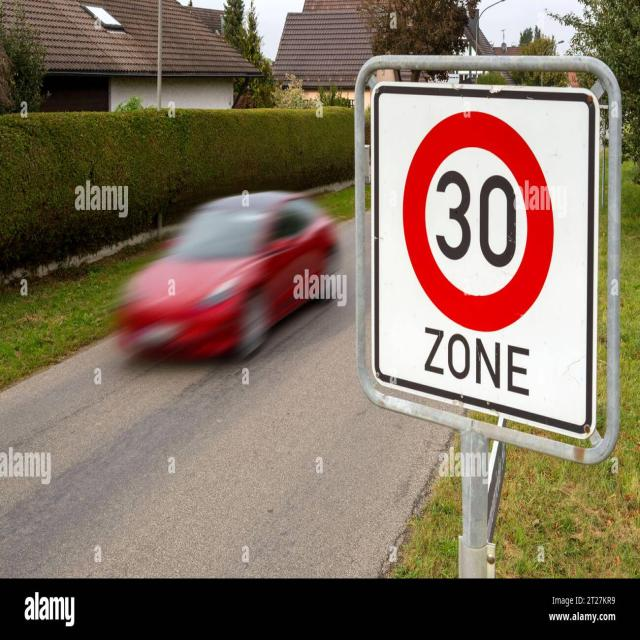speed_30: (401, 108, 554, 333)
